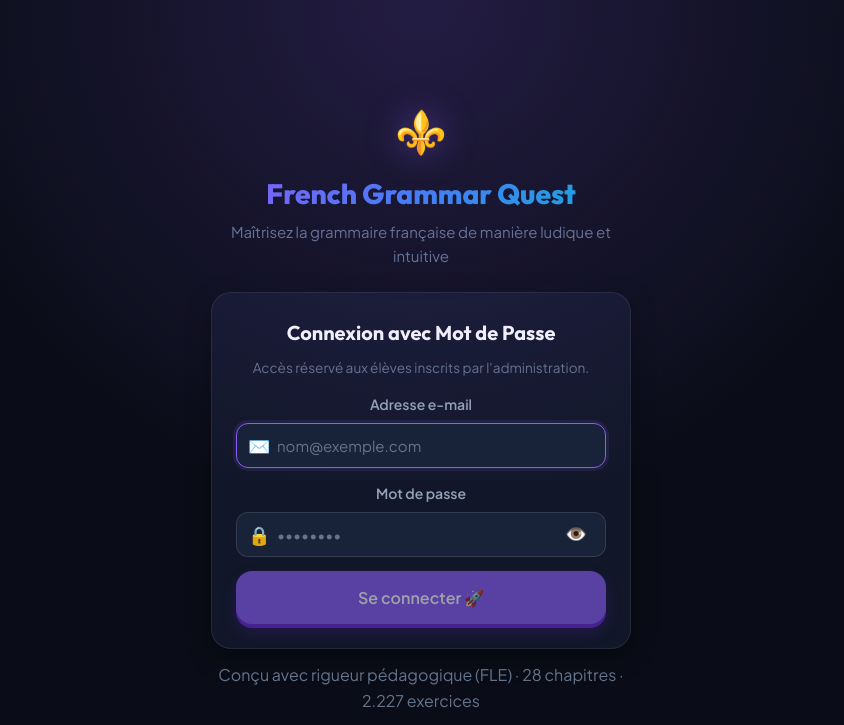
Test: LoginPage › toggles password visibility with accessible eye button
Click the button named "Afficher le mot de passe".
click(576, 535)  # box [554,513,598,557]
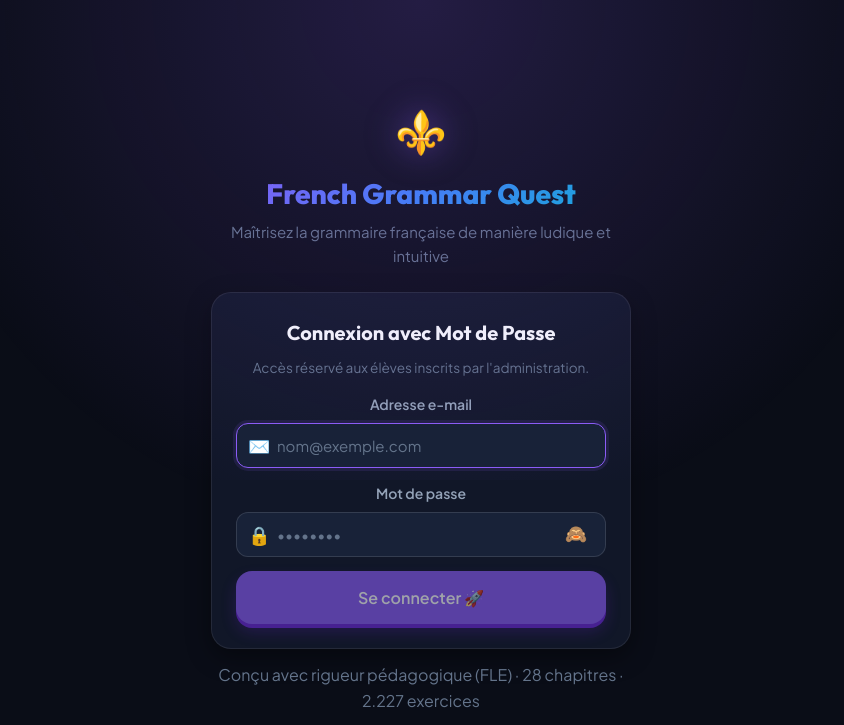
Check: the button named "Masquer le mot de passe" is shown, box [554,513,598,557]
